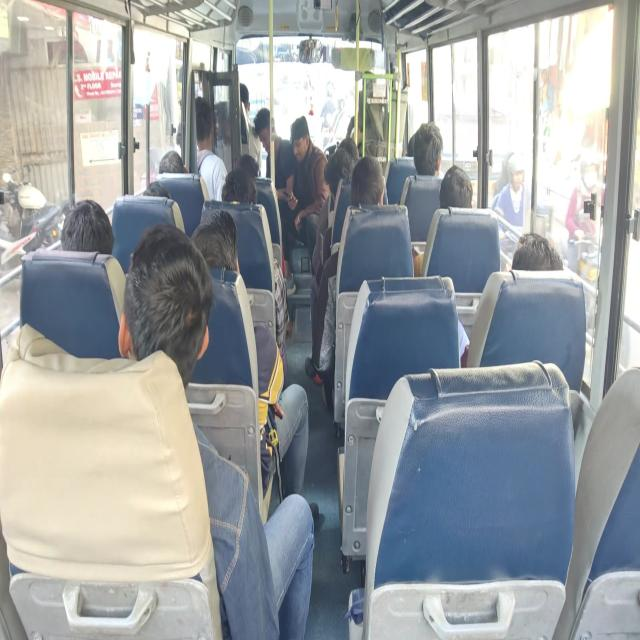person: (118, 222, 316, 638), (190, 208, 318, 522), (312, 155, 388, 408), (458, 231, 564, 367), (253, 107, 296, 279), (284, 116, 328, 276), (412, 165, 473, 276), (194, 95, 228, 201), (564, 151, 604, 241), (491, 151, 531, 228), (60, 198, 114, 255), (239, 82, 262, 174), (510, 232, 563, 271), (407, 120, 443, 176), (438, 165, 472, 208), (158, 150, 188, 174)
